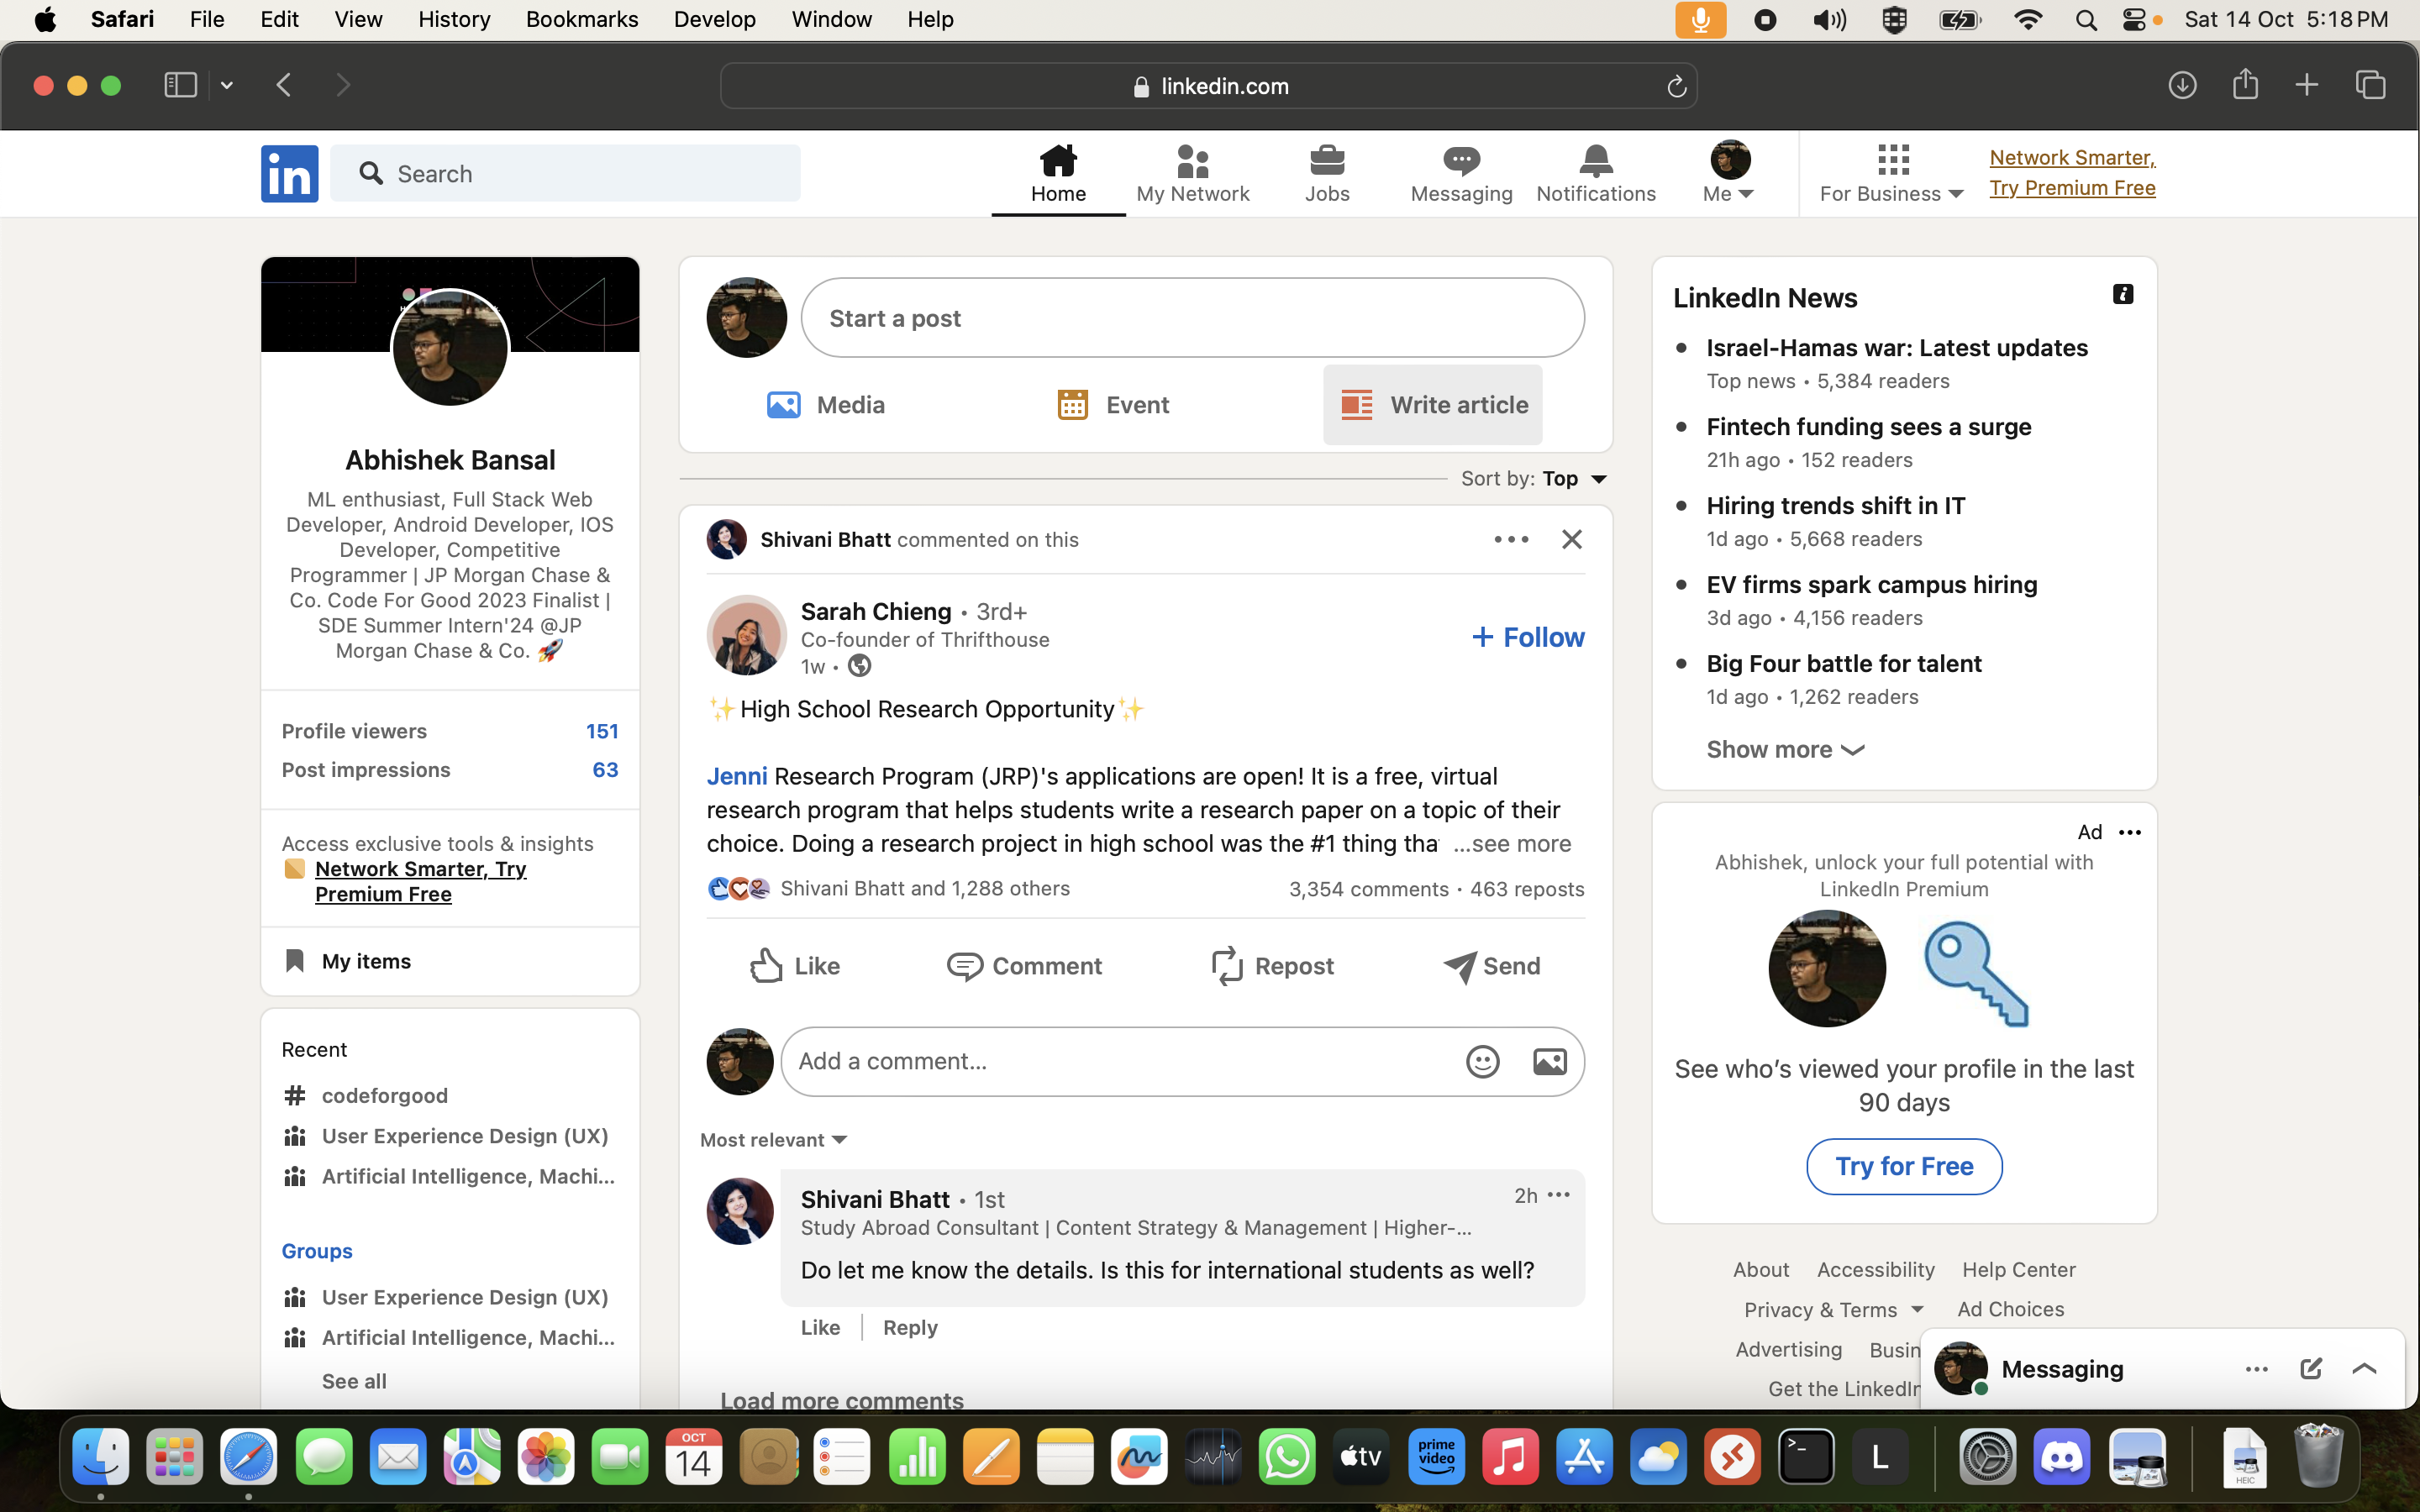Paragraph: (686, 754, 1591, 878), (277, 484, 627, 669), (305, 1279, 627, 1399), (308, 1083, 624, 1204), (1660, 1045, 2146, 1122), (1690, 552, 2061, 648), (272, 829, 617, 913), (1693, 408, 2058, 481), (1707, 326, 2096, 394), (697, 683, 1152, 730), (793, 1258, 1554, 1286), (1714, 850, 2103, 902), (796, 596, 1087, 665), (1700, 651, 1993, 719), (1690, 493, 1997, 552), (251, 705, 641, 747), (315, 435, 584, 481), (274, 754, 645, 786), (1389, 375, 1533, 439), (1681, 719, 1859, 772), (826, 287, 963, 350), (751, 510, 892, 566), (1664, 280, 1873, 315), (779, 1183, 967, 1221), (308, 932, 425, 991), (1101, 364, 1169, 429), (822, 380, 906, 432), (268, 1228, 382, 1261), (261, 1038, 368, 1066)
